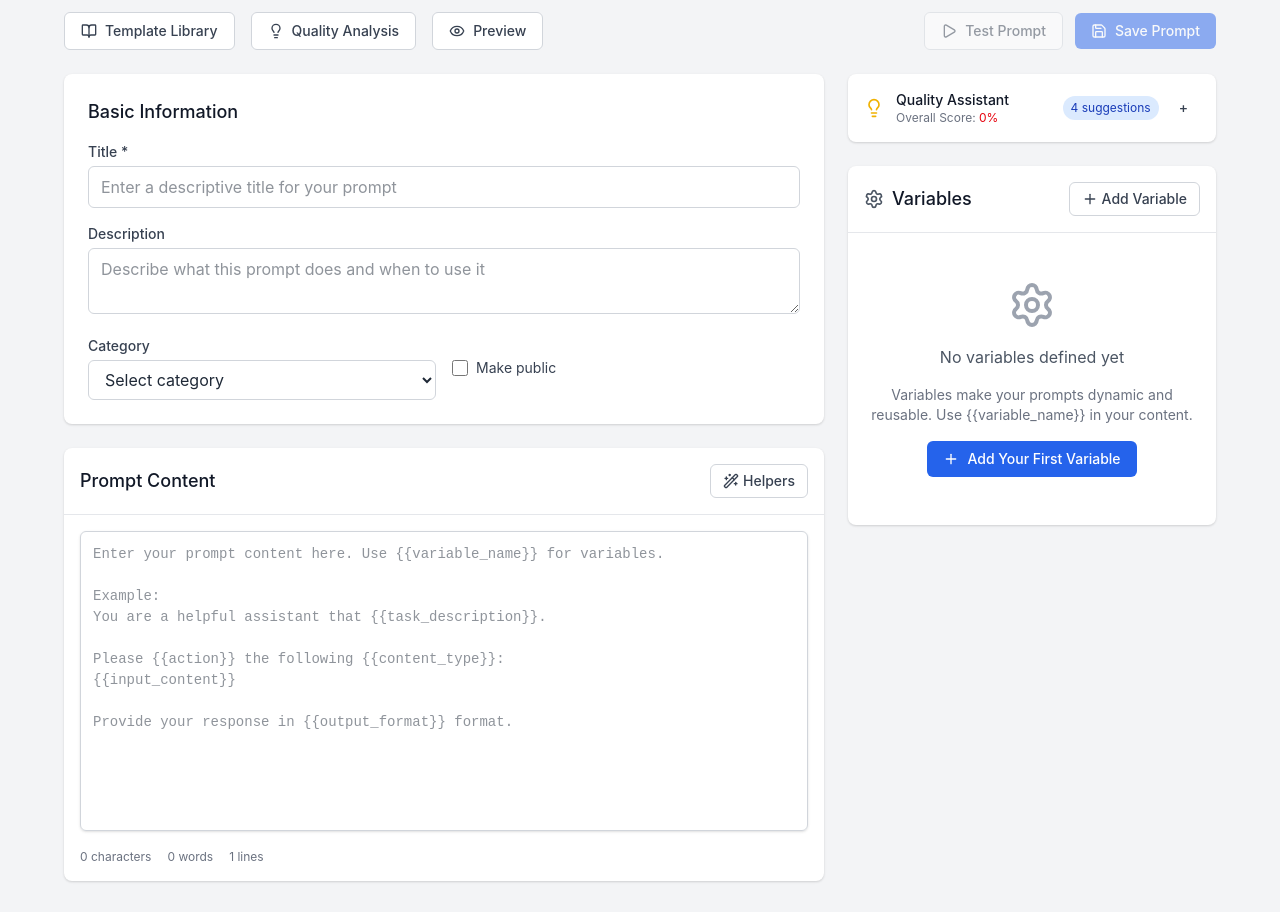
Test: EnhancedPromptEditor › toggles preview mode
Click the button "Preview".
click(488, 31)  # box [432, 12, 543, 50]
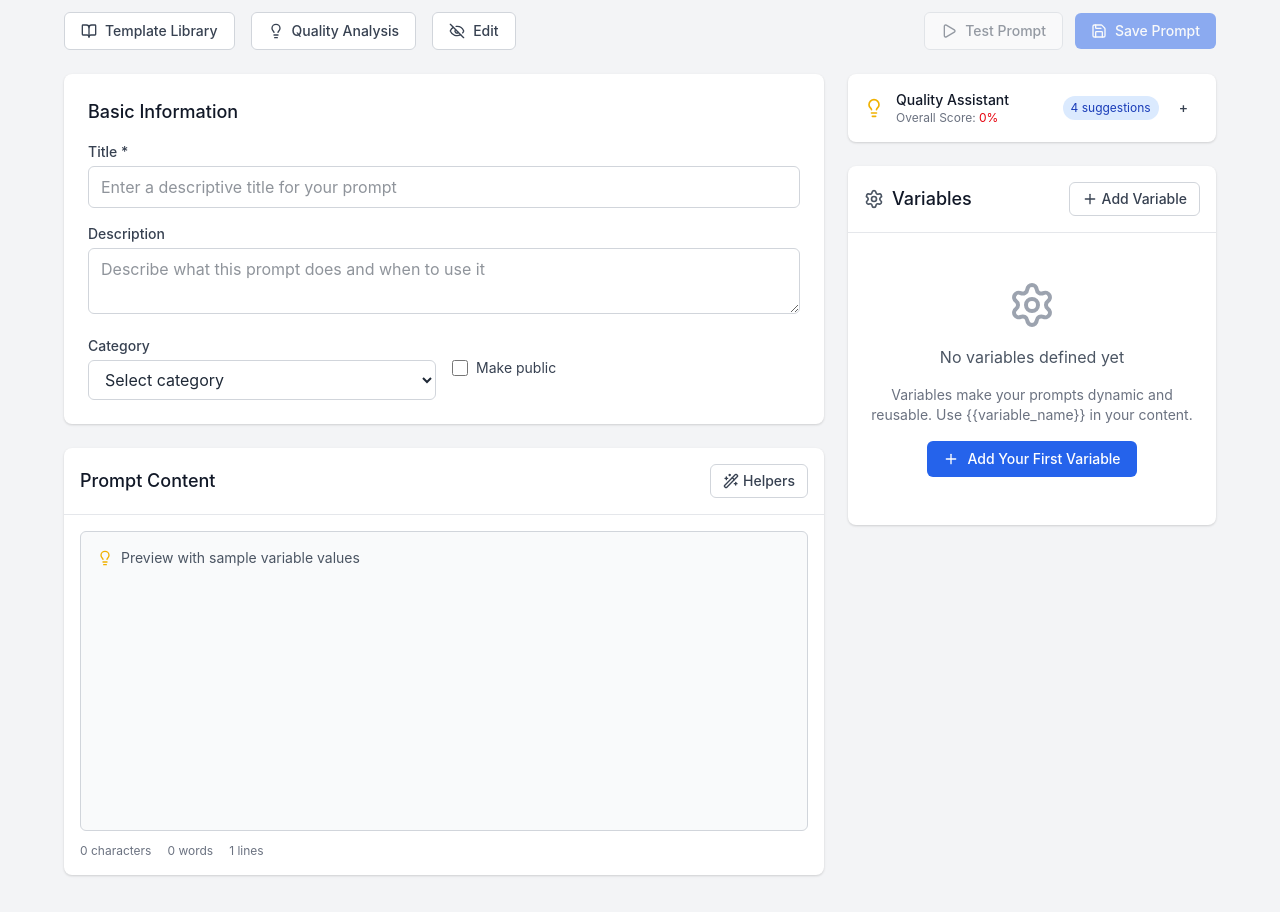
expect the button "Edit" is shown: met, box [432, 12, 516, 50]
